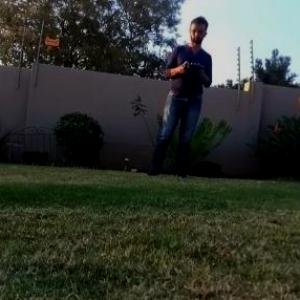follow: (141, 7, 215, 183)
